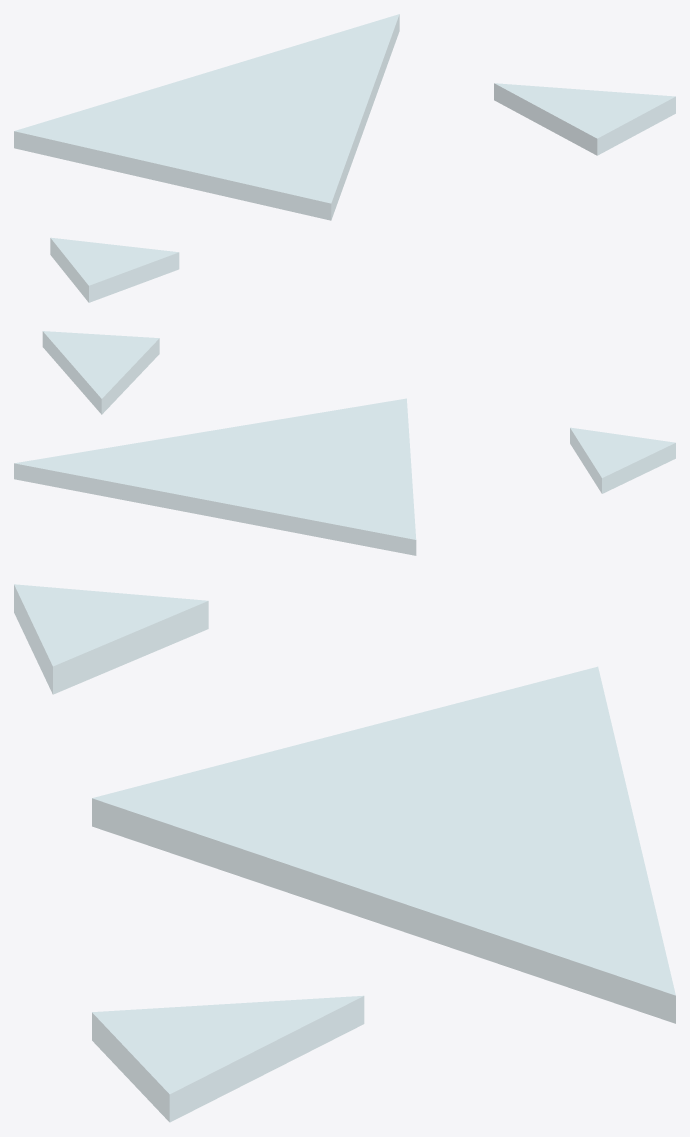
Rendered from glass_shard.glb.
3 renders of one model, top to bottom at view 1: azimuth 30°, elevation 25°; view 2: azimuth 150°, elevation 25°; view 3: azimuth 270°, elevation 25°, orthographic. The views are drawn at different scales.
Parts seen in each view (by area): view 1: block_shard0, block_shard1, block_shard2; view 2: block_shard0, block_shard1, block_shard2; view 3: block_shard0, block_shard1, block_shard2.
Boxes of the visible parts, box(x1,y1,x2,y2) form: block_shard0: box(14, 14, 399, 220); block_shard1: box(494, 83, 675, 155); block_shard2: box(50, 237, 179, 302); block_shard0: box(14, 398, 416, 555); block_shard1: box(42, 331, 159, 414); block_shard2: box(570, 427, 675, 493); block_shard0: box(92, 666, 675, 1023); block_shard1: box(92, 995, 364, 1122); block_shard2: box(14, 584, 208, 694).
Size of the model in its own units: 0.155 by 0.004 by 0.085.
Materials: 1 (1 with a texture image).
